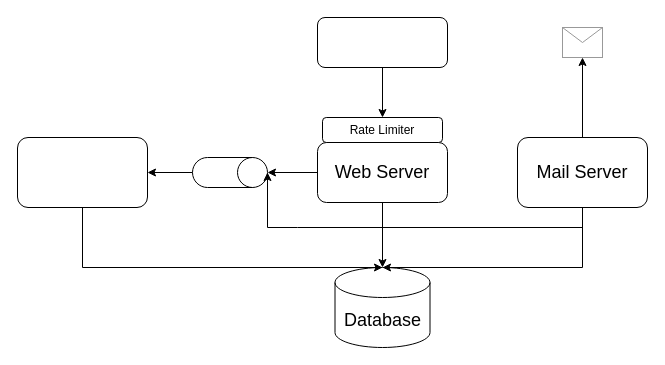
The diagram is 665 pixels wide and 365 high, and some of its shapes have lost their labels. The shapes that lost their labels are listed below. From the top down, each one's box as (x1, y1, x2, y2) in pixels, then its label:
(316, 16, 448, 68): Web Client
(16, 136, 148, 208): Recommendation Server
